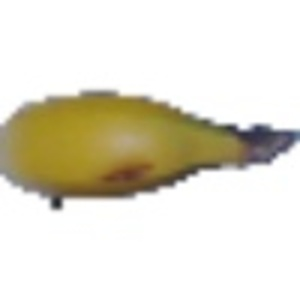banana: (1, 81, 294, 202)
